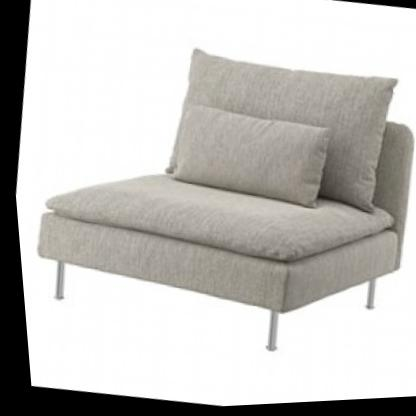Sofa: (1, 0, 416, 395)
